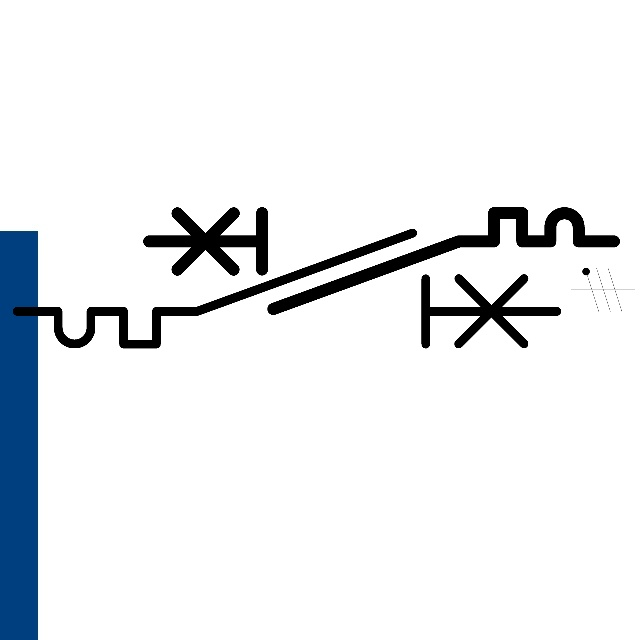interruptor_termomagnetico: (3, 219, 570, 358), (137, 201, 626, 320)
